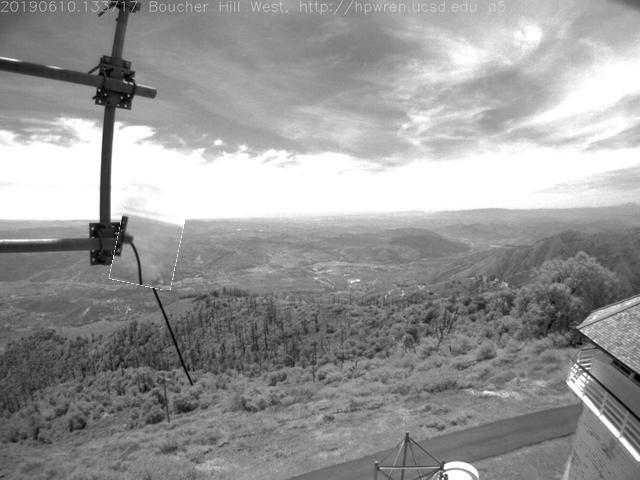smoke: (116, 177, 188, 290)
